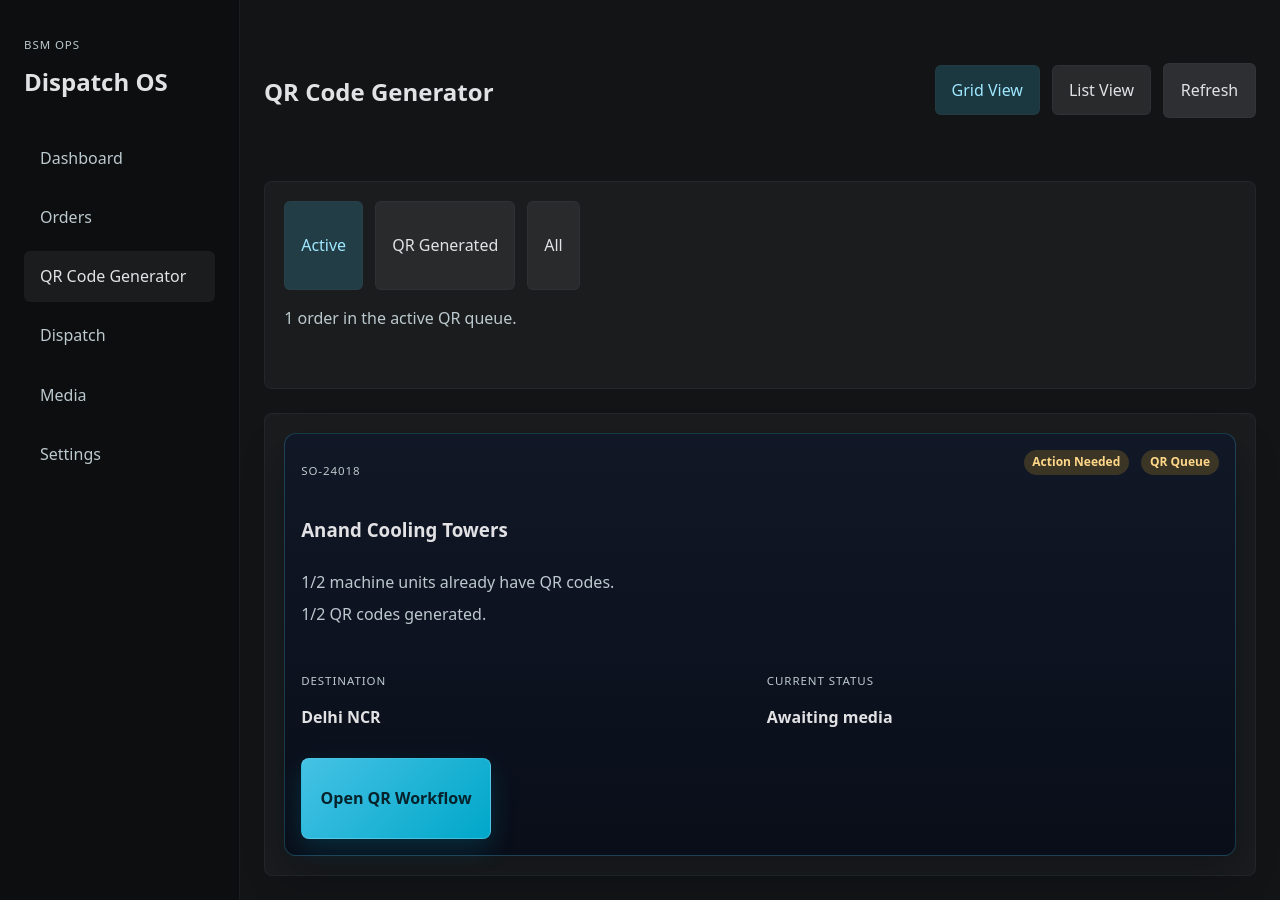
QrOrdersPage › hides qr-completed orders from the default active queue
Expected: the text "SO-24018" is shown, [301, 463, 360, 478]
Expected: the text "SO-24099" is not shown
Click the button "QR Generated": point(445, 245) [375, 201, 515, 290]
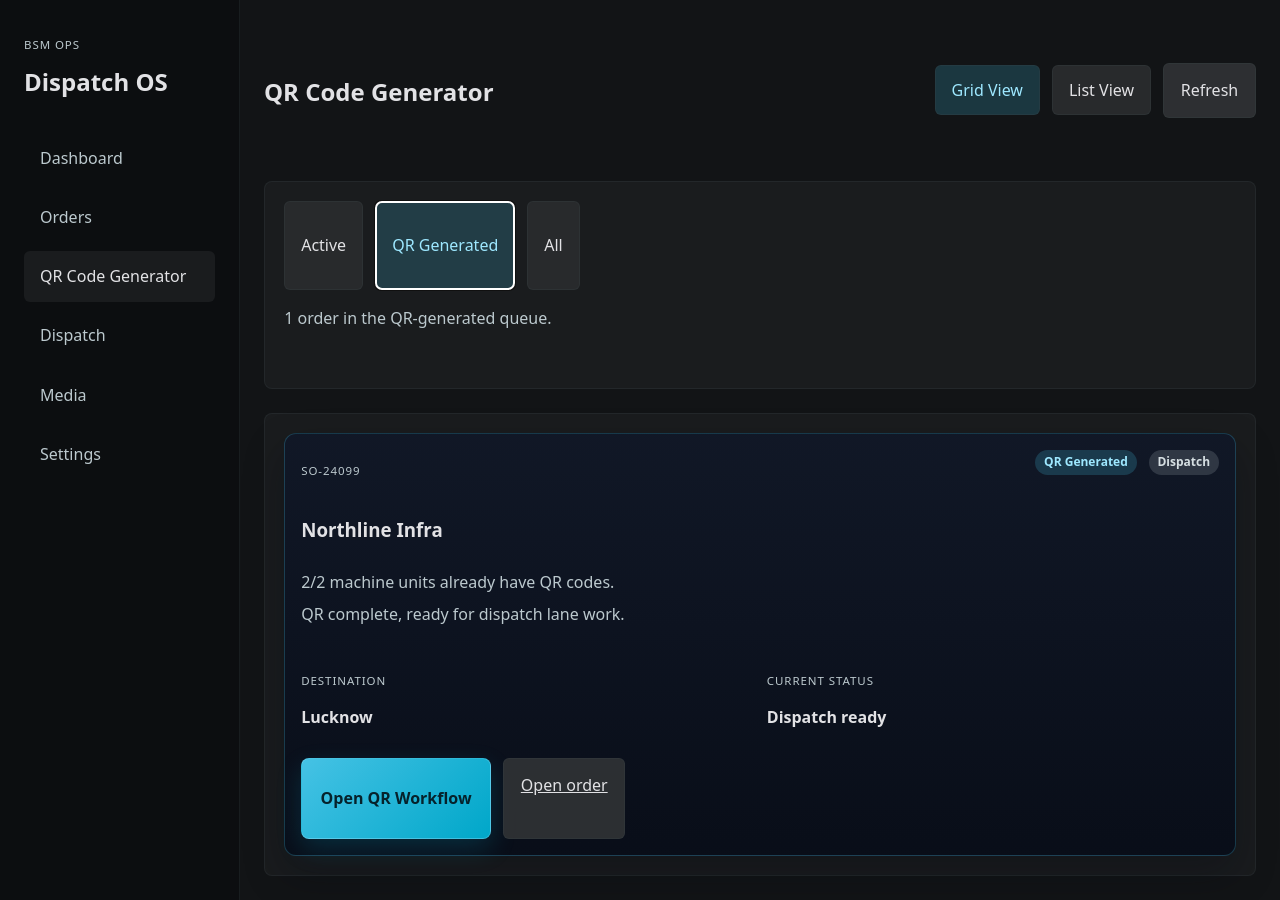
Expected: the text "SO-24099" is shown, [301, 463, 360, 478]
Expected: the text "SO-24018" is gone
